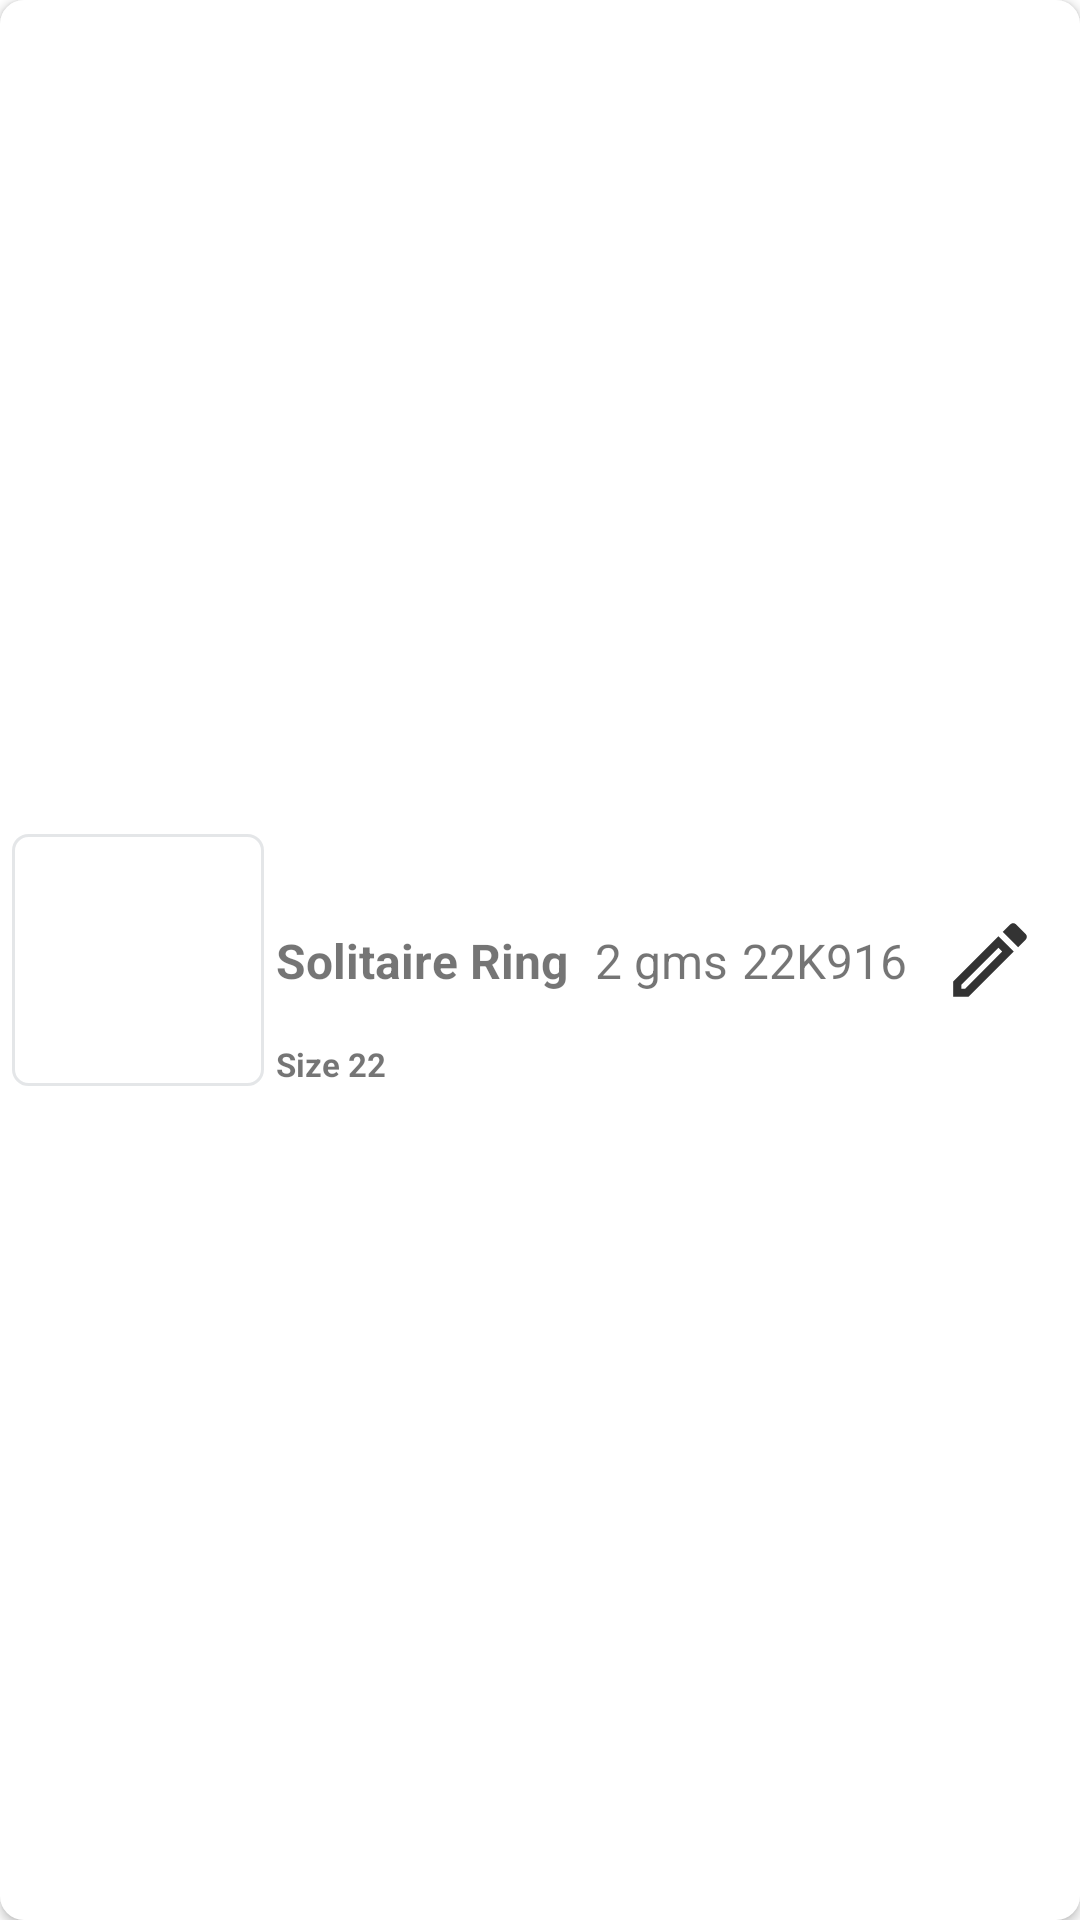

Named icons in this screenshot (1080px×1920px) and their centers, (x=x, y=y):
edit: (x=990, y=960)
